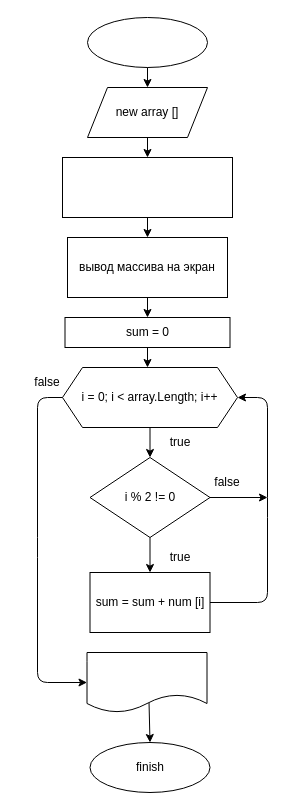
The diagram is 293 pixels wide and 810 high, and some of its shapes have lost their labels. Here are the shapes that lost their labels. From the top down, the centre of each, then its label:
At (x=147, y=42): "start".
At (x=147, y=187): "Нполнение массива num [i] = Random (1, 10)".
At (x=146, y=682): "sum".
